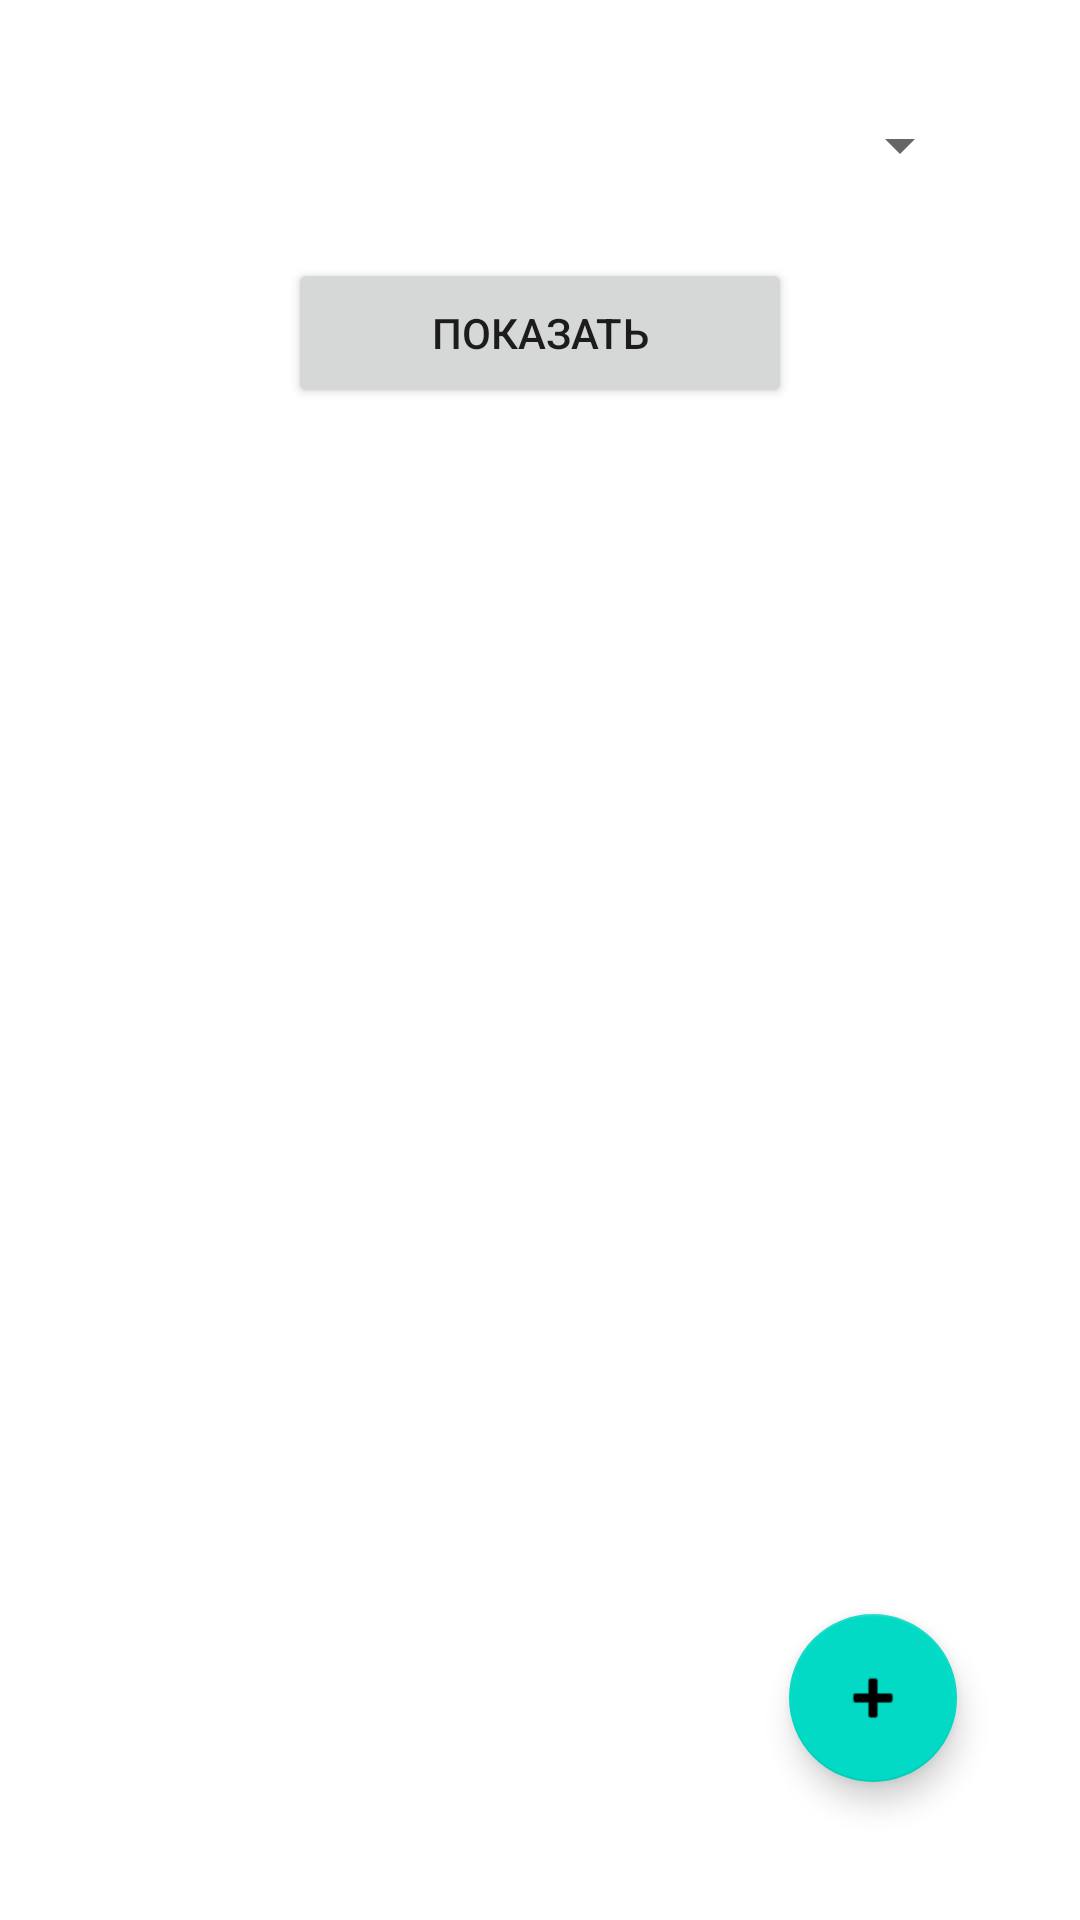

Icon click points for this 1080px×1920px phone screenshot, format (x,y):
add: (873,1698)
